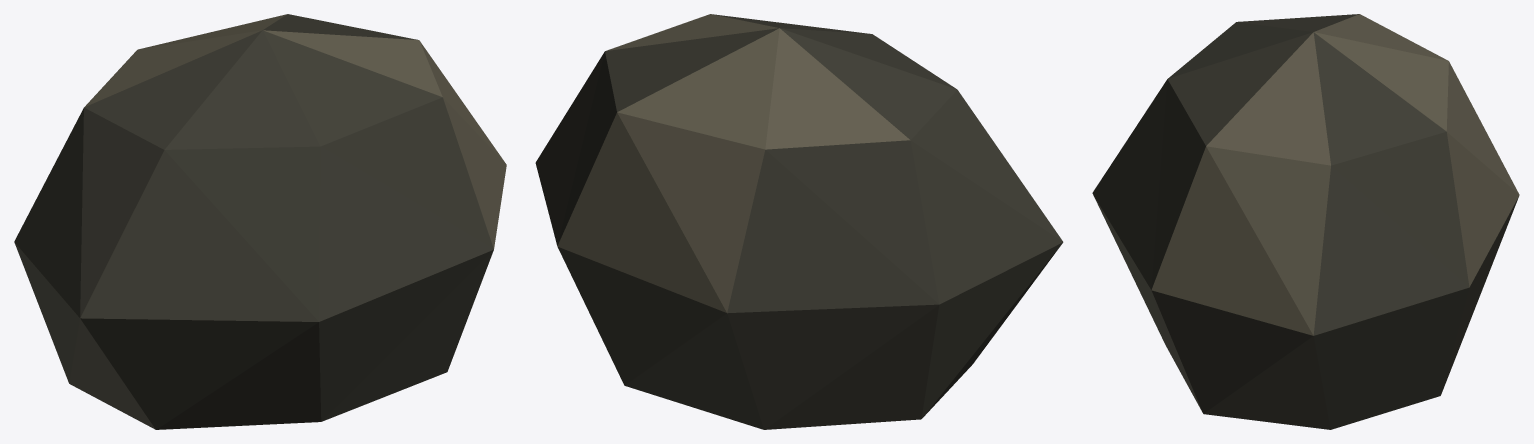
File: Rock_Medium_01.fbx
3 renders of one model, left to right at view 1: azimuth 30°, elevation 25°; view 2: azimuth 150°, elevation 25°; view 3: azimuth 270°, elevation 25°, orthographic. The views are drawn at different scales.
Parts seen in each view (by area): view 1: Rock_Medium_01_Mesh; view 2: Rock_Medium_01_Mesh; view 3: Rock_Medium_01_Mesh.
Part boxes in pixels (x1,y1,x2,y2): Rock_Medium_01_Mesh: [14, 14, 506, 429]; Rock_Medium_01_Mesh: [535, 14, 1063, 429]; Rock_Medium_01_Mesh: [1092, 14, 1519, 429].
Size of the model in its own units: 0.8643 by 0.672 by 0.691.
1 material, 1 textured.
